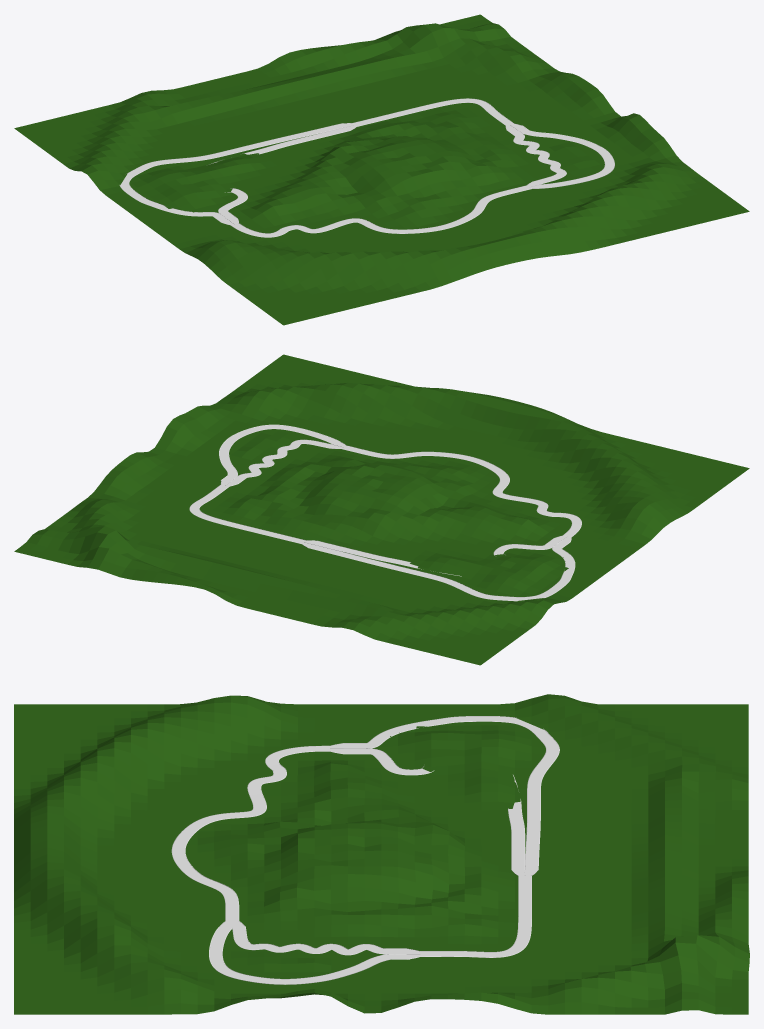
Rendered from Track2b.fbx.
The picture shows the model from 3 angles, top to bottom: view 1: azimuth 30°, elevation 25°; view 2: azimuth 150°, elevation 25°; view 3: azimuth 270°, elevation 25°; orthographic projection. The views are drawn at different scales.
Parts seen in each view (by area): view 1: Plane.001, PlaneTemplate.004, PlaneTemplate.002, Route1A, Plane, PlaneTemplate.003, Route1B; view 2: Plane.001, PlaneTemplate.004, PlaneTemplate.002, Route1A, PlaneTemplate.003, Plane, Route1B; view 3: Plane.001, PlaneTemplate.004, PlaneTemplate.002, Route1A, PlaneTemplate.003, Plane, Route1B.
Boxes of the visible parts, x1,y1,x2,y2 form: Plane.001: [14, 14, 749, 325]; PlaneTemplate.004: [119, 123, 344, 222]; PlaneTemplate.002: [230, 185, 531, 237]; Route1A: [515, 125, 614, 188]; Plane: [352, 98, 513, 126]; PlaneTemplate.003: [209, 127, 350, 220]; Route1B: [506, 128, 566, 184]; Plane.001: [14, 354, 749, 665]; PlaneTemplate.004: [308, 540, 575, 601]; PlaneTemplate.002: [341, 445, 581, 537]; Route1A: [219, 424, 340, 481]; PlaneTemplate.003: [313, 538, 561, 576]; Plane: [189, 484, 306, 544]; Route1B: [230, 439, 334, 483]; Plane.001: [14, 694, 749, 1014]; PlaneTemplate.004: [343, 716, 559, 869]; PlaneTemplate.002: [171, 745, 330, 921]; Route1A: [209, 926, 409, 984]; PlaneTemplate.003: [343, 748, 525, 869]; Plane: [420, 875, 531, 957]; Route1B: [232, 927, 407, 955].
Size of the model in its own units: 10638 by 475 by 10657.
